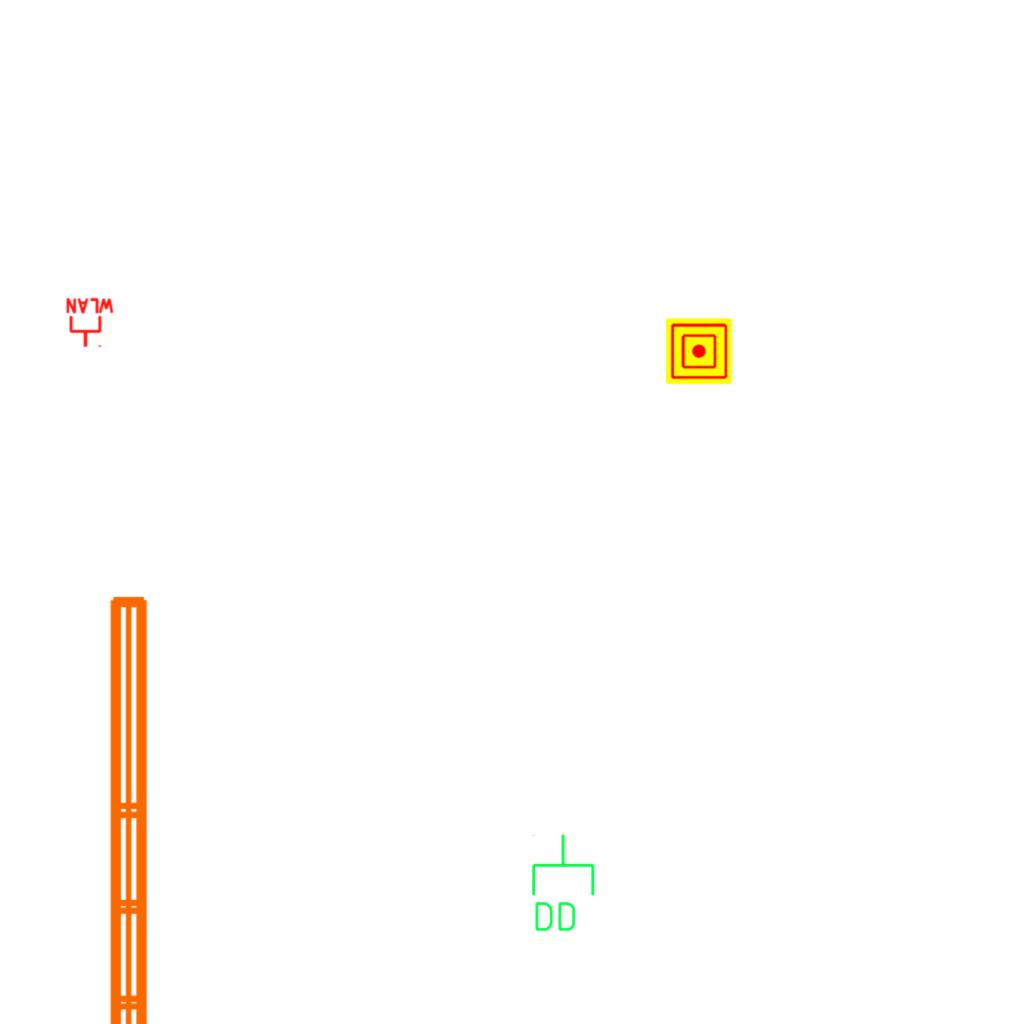Ambulanz_Pendelleuchte_LED: (98, 586, 210, 1024)
Datenanschluss_zweifach: (528, 832, 597, 935)
NAM-Nichtautomatischer_Melder: (666, 318, 732, 384)
WLAN: (64, 297, 116, 349)
